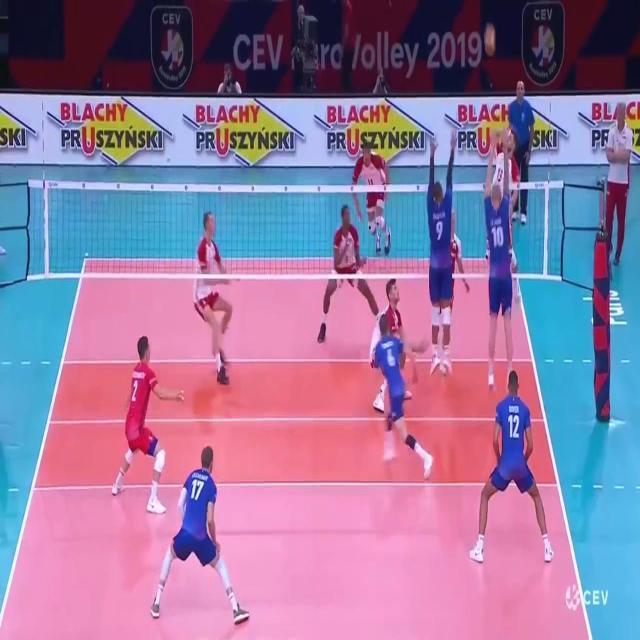volleyball: (484, 23, 496, 52)
